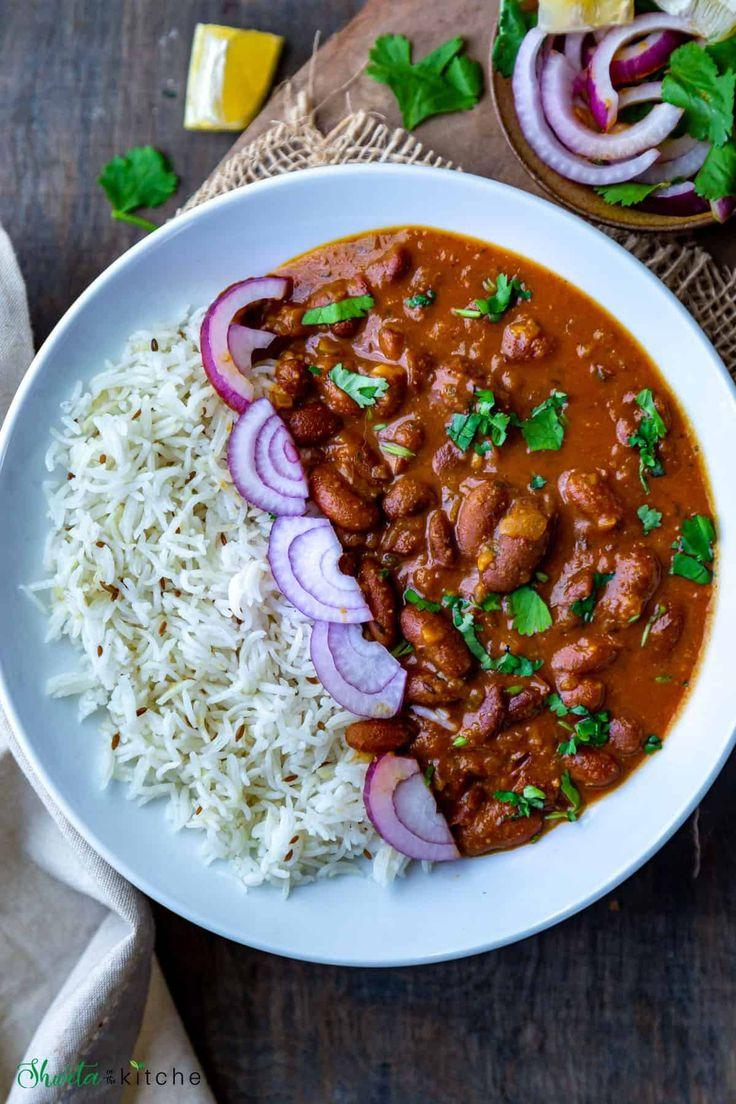rajma: (306, 230, 731, 831)
rice: (58, 328, 322, 889)
salad: (213, 268, 462, 845)
